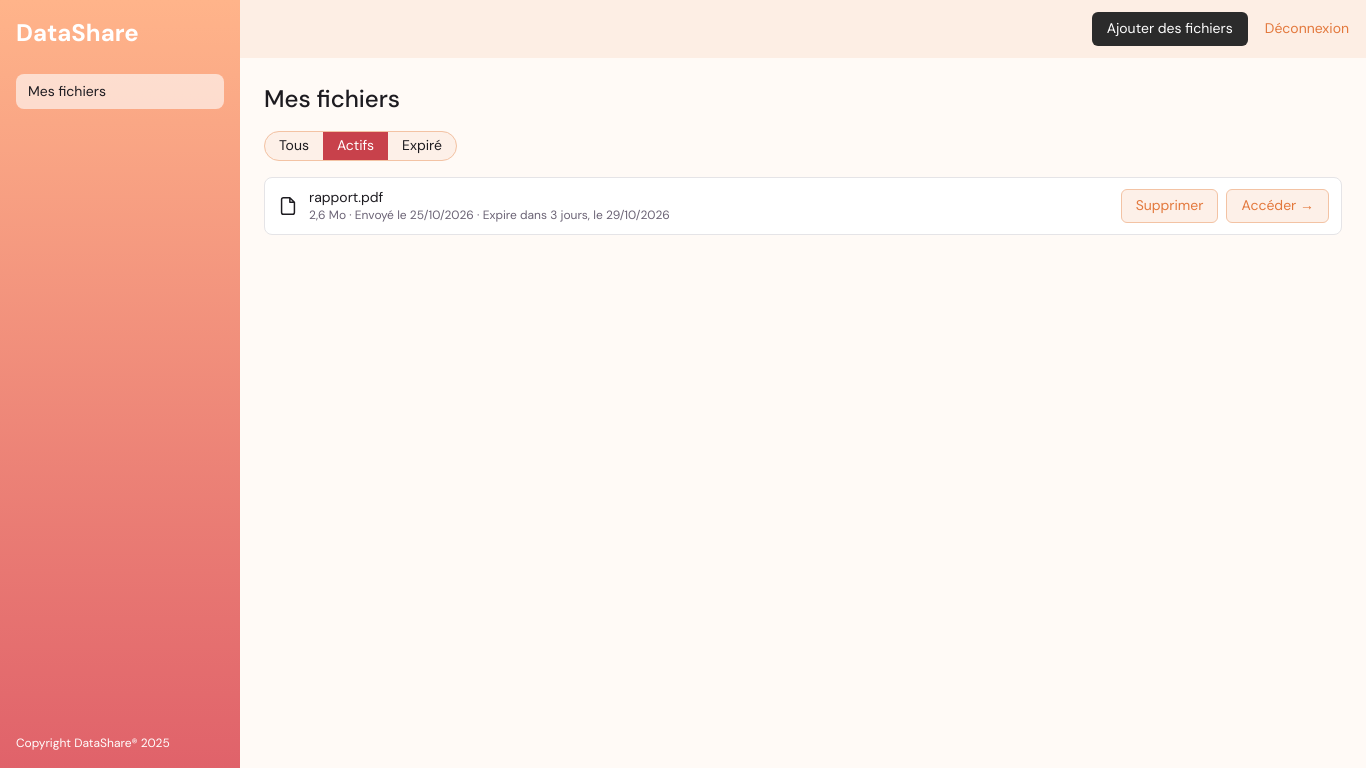
Scenario: MyFilesPage — history (US05) and deletion (US06) › shows the API message when the deletion fails, and drops a file already deleted
Click the button with aria-label "Supprimer rapport.pdf" at (1170,206), box left=1121, top=189, right=1218, bottom=223
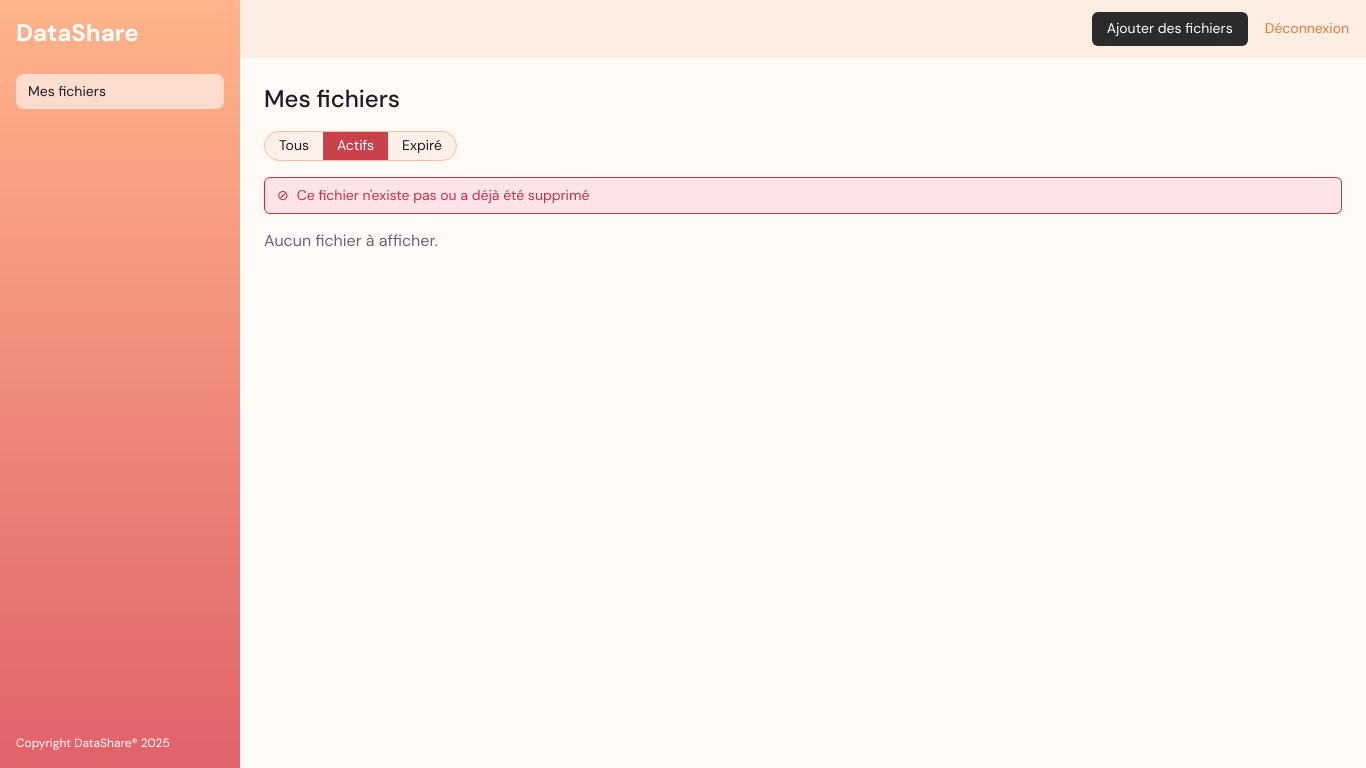
Now the message shows "Ce fichier n'existe pas ou a déjà été supprimé", box left=297, top=186, right=589, bottom=204
Now the text "rapport.pdf" is gone
